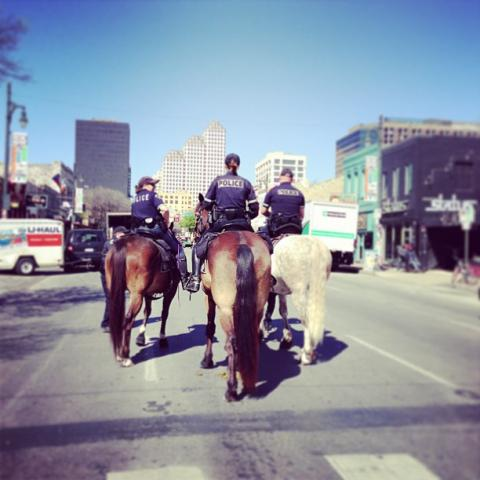car: (183, 241, 192, 249)
truck: (301, 200, 360, 271), (0, 218, 64, 277), (63, 230, 105, 272)
